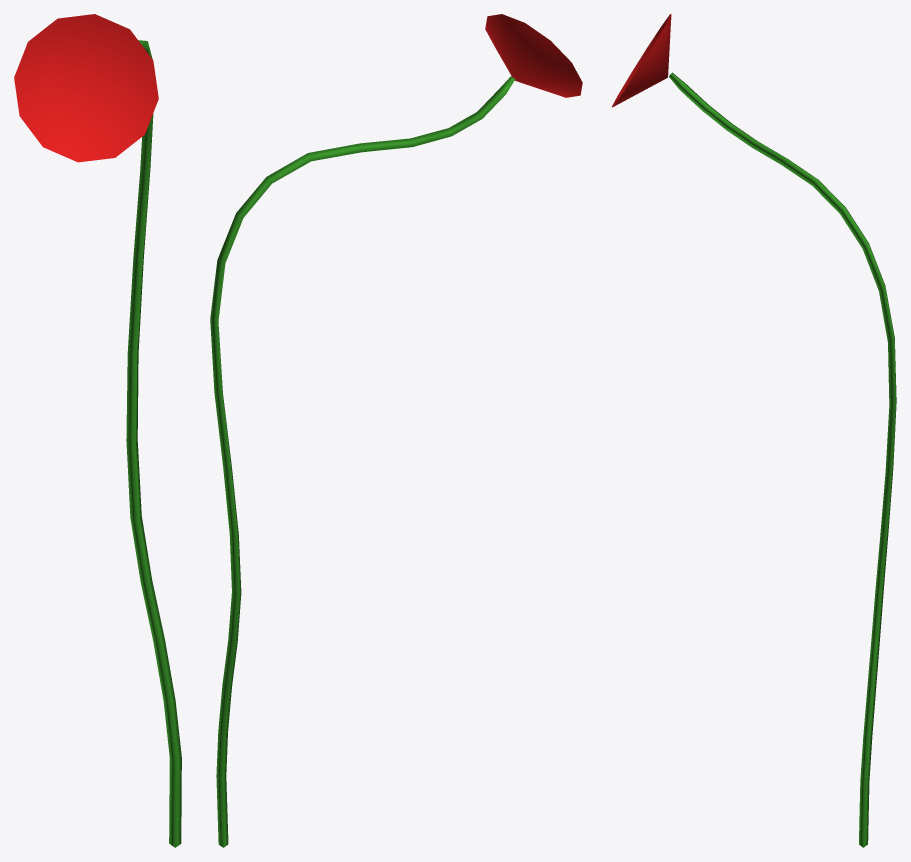
Rendered from SM_flower_03.fbx.
3 views of the same model, side by side, from view 1: azimuth 30°, elevation 25°; view 2: azimuth 150°, elevation 25°; view 3: azimuth 270°, elevation 25° (orthographic). The views are drawn at different scales.
Visible parts, largest first — view 1: Line027; view 2: Line027; view 3: Line027.
Boxes of the visible parts, x1=… form: Line027: x1=14, y1=14, x2=181, y2=847; Line027: x1=210, y1=14, x2=582, y2=847; Line027: x1=612, y1=14, x2=896, y2=847.
Size of the model in its own units: 14.05 by 42.9 by 14.96.
